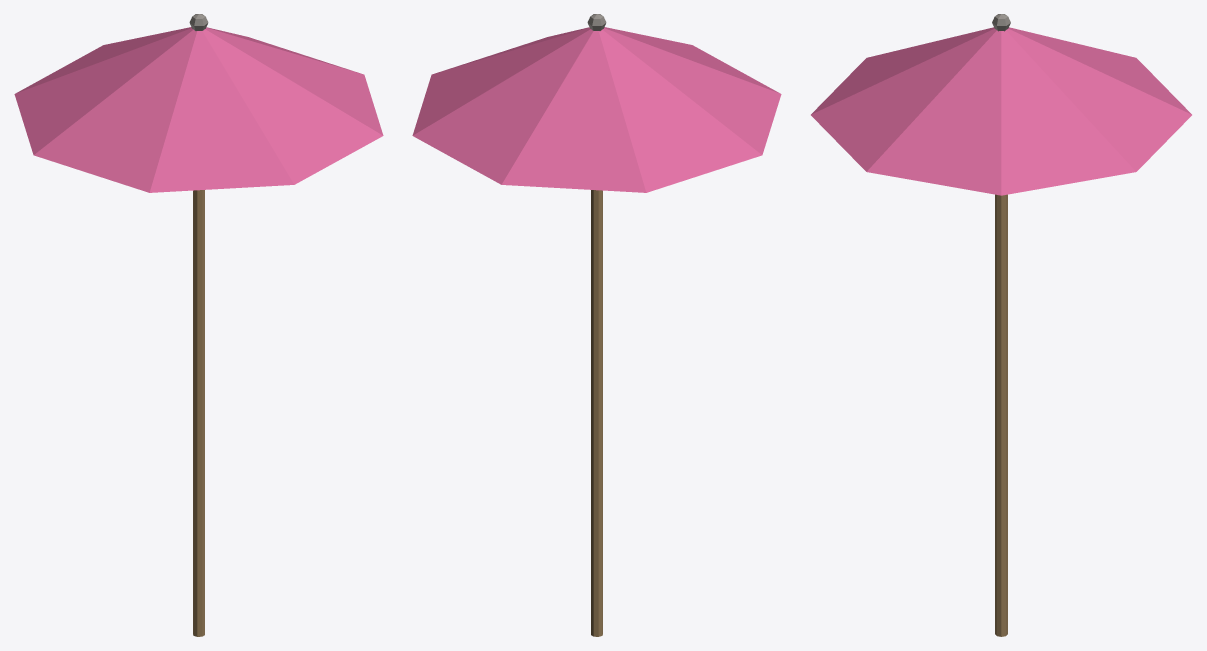
File: Umbrella_1.glb
3 renders of one model, left to right at view 1: azimuth 30°, elevation 25°; view 2: azimuth 150°, elevation 25°; view 3: azimuth 270°, elevation 25°, orthographic.
Visible parts, largest first — view 1: Umbrella_1; view 2: Umbrella_1; view 3: Umbrella_1.
Part boxes in pixels (x1,y1,x2,y2): Umbrella_1: (14, 14, 383, 636); Umbrella_1: (412, 14, 781, 636); Umbrella_1: (811, 14, 1191, 636).
Bounding box in the file's own units: 1.2 × 2.15 × 1.2.
